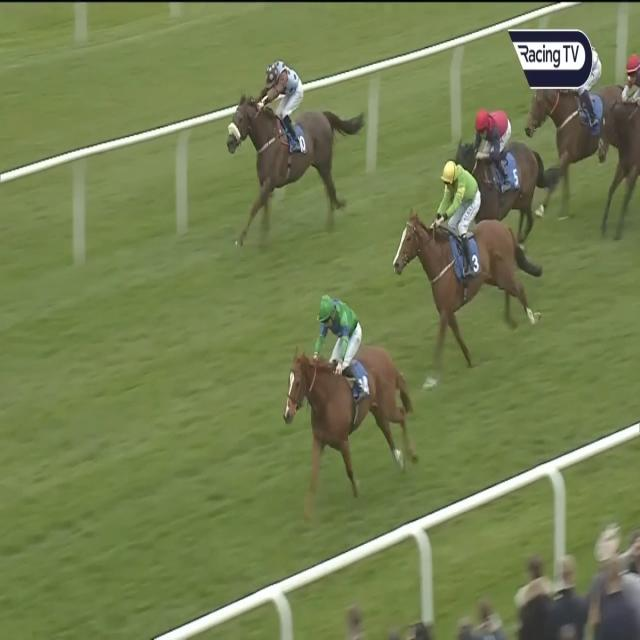horses-racing: (279, 296, 416, 489), (394, 163, 536, 345), (228, 55, 349, 229), (451, 102, 543, 230), (536, 36, 616, 182), (609, 49, 640, 230)
